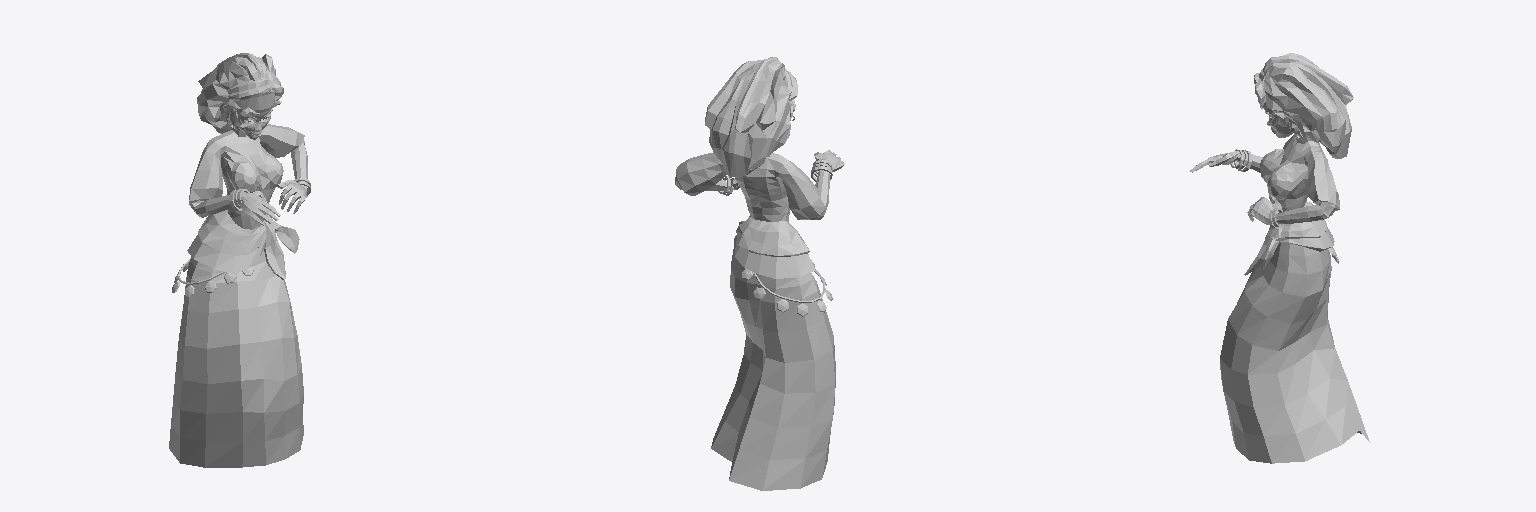
The model's file is pose063.obj.
The picture shows the model from 3 angles: view 1: azimuth 30°, elevation 25°; view 2: azimuth 150°, elevation 25°; view 3: azimuth 270°, elevation 25°; orthographic projection.
Parts seen in each view (by area): view 1: Peasant_girl; view 2: Peasant_girl; view 3: Peasant_girl.
Part boxes in pixels (x1,y1,x2,y2): Peasant_girl: (169,53,310,467); Peasant_girl: (675,57,844,490); Peasant_girl: (1190,53,1369,463).
Size of the model in its own units: 73.95 by 200 by 81.87.